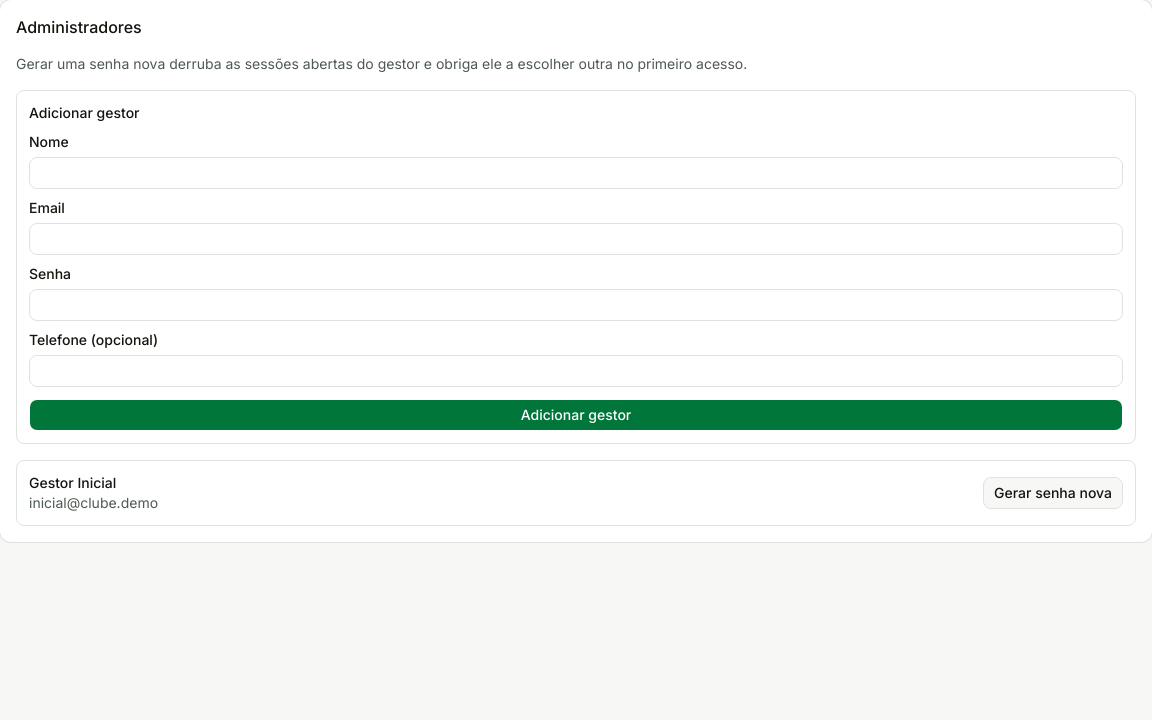
Test: CompanyAdminsCard — adicionar gestor (SPEC-085) › AC-007: o botão fica desabilitado enquanto a requisição está no ar
Expected: the text "Gestor Inicial" is shown, [29,474,116,491]
Type "Segunda Gestora" into the field labelled "Nome" at (576, 173), box [29,157,1123,189]
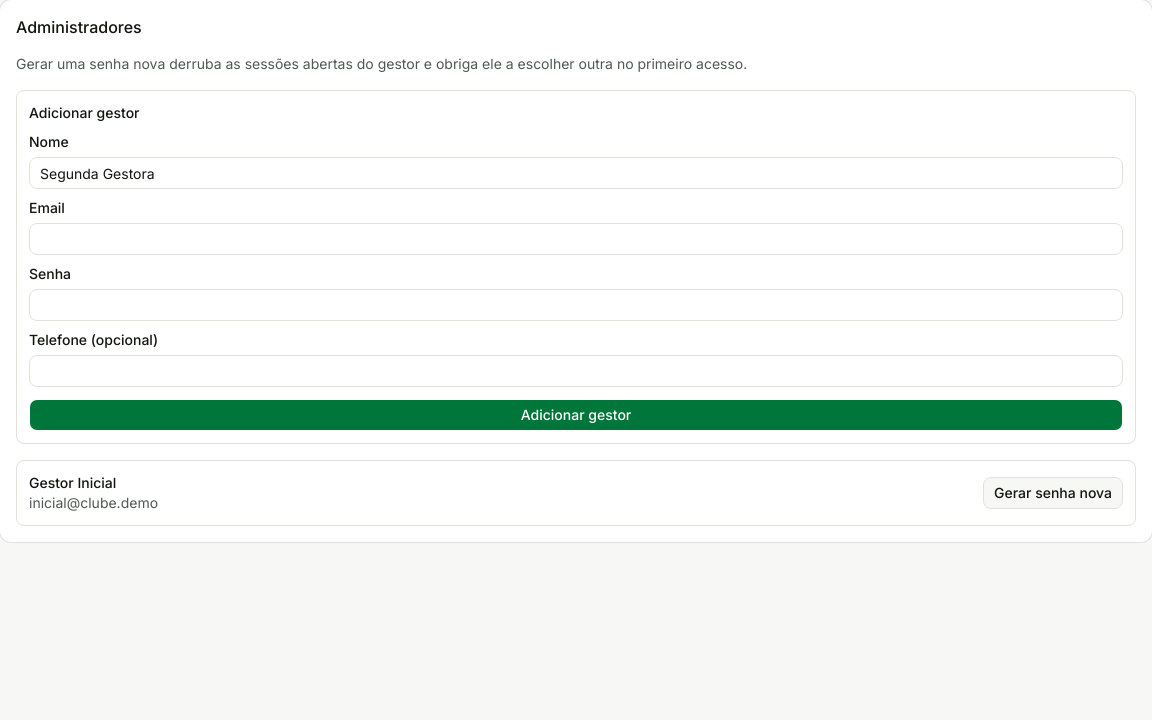
Type "segunda@clube.demo" into the field labelled "Email" at (576, 239), box [29,223,1123,255]
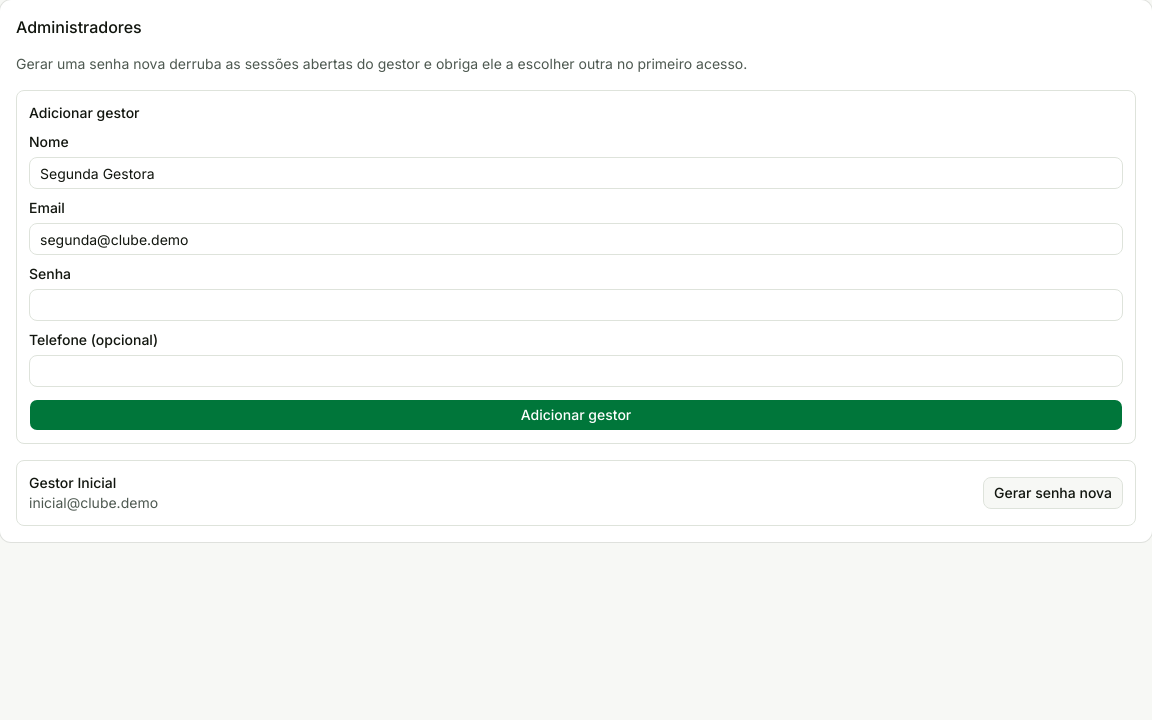
Type "senha-forte-1" into the password field labelled "Senha" at (576, 305), box [29,289,1123,321]
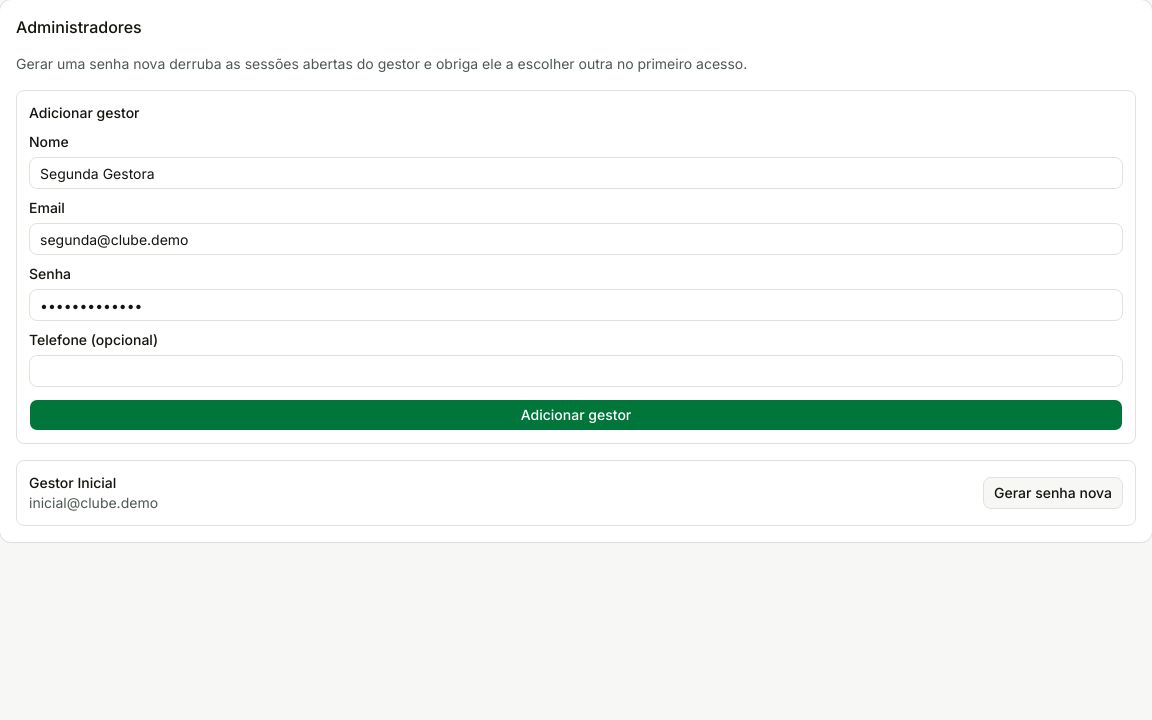
Click the button "Adicionar gestor" at (576, 415), box [29,399,1123,431]
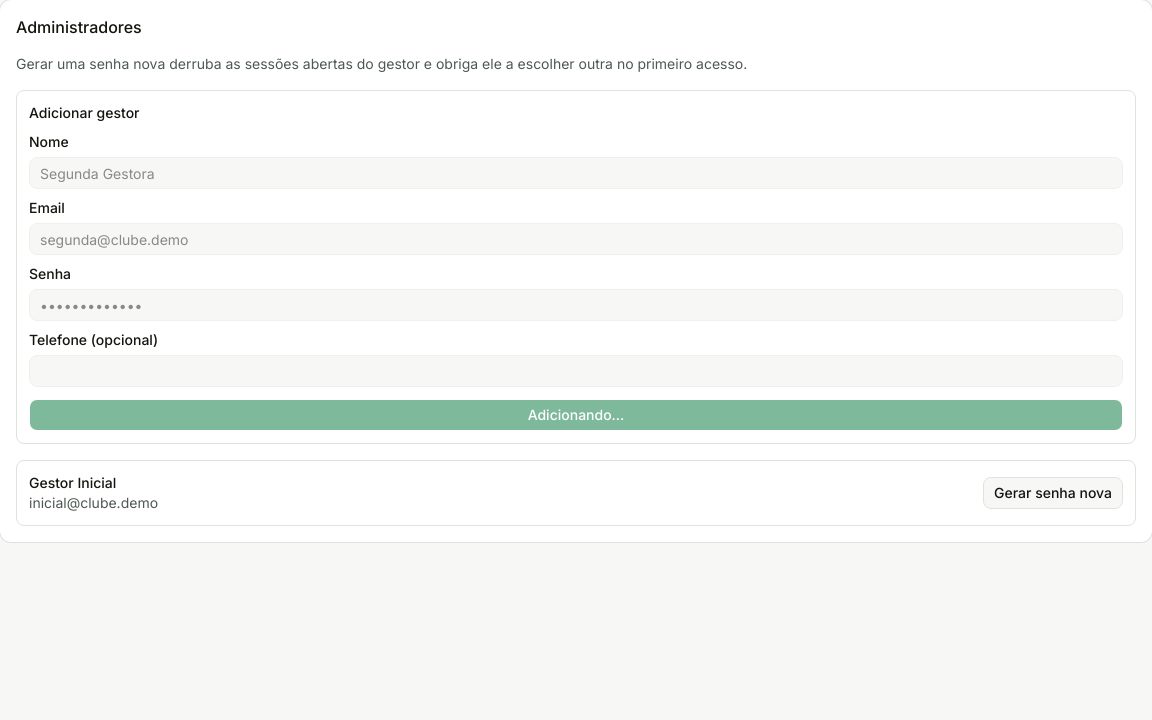
Now the button "Adicionando..." is disabled
Click the button "Adicionando..." at (576, 415), box [29,399,1123,431]
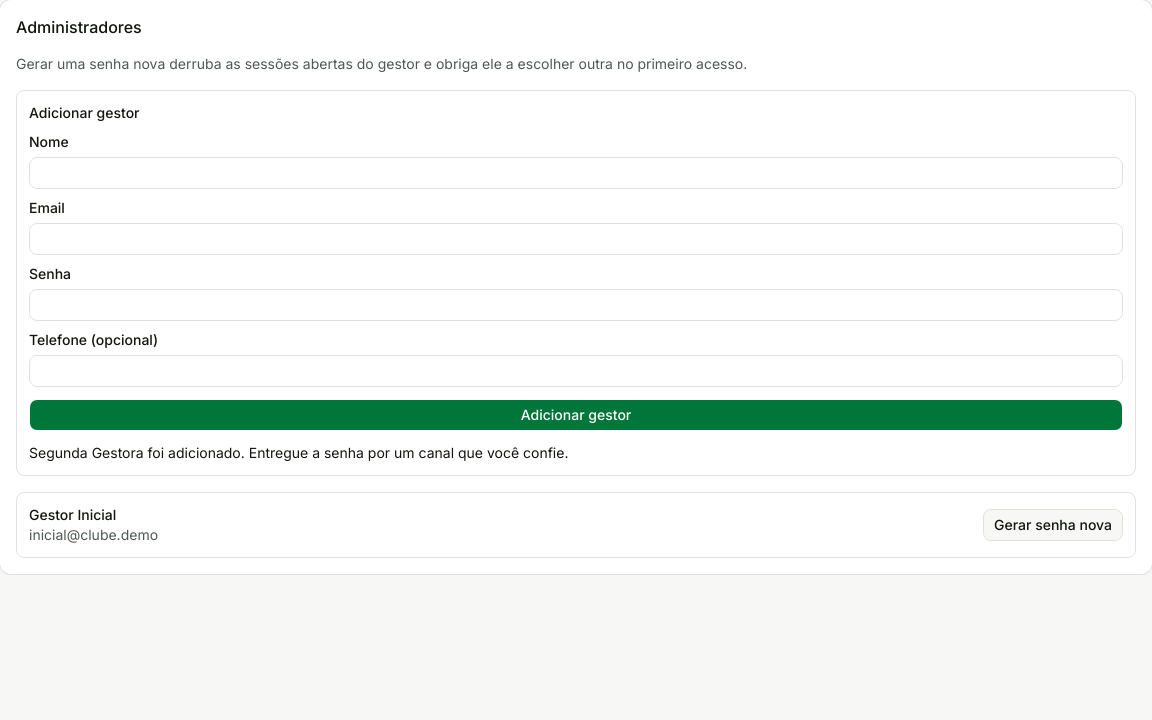
Now the button "Adicionar gestor" is shown, box [29,399,1123,431]
